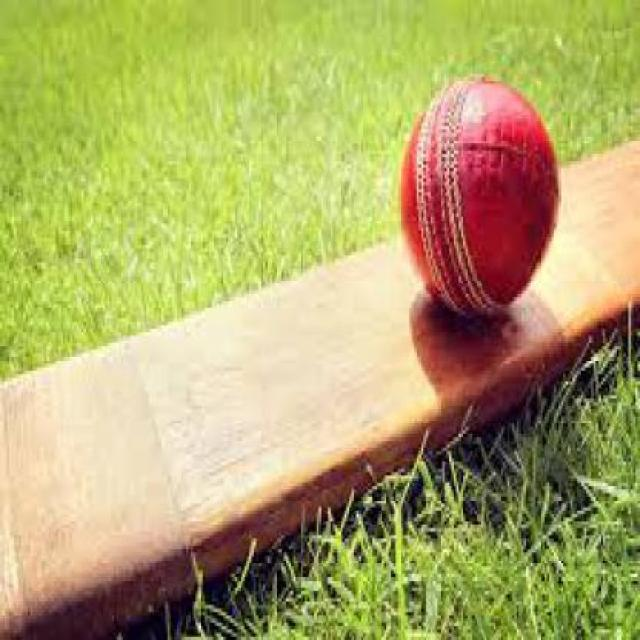ball: (379, 32, 589, 344)
